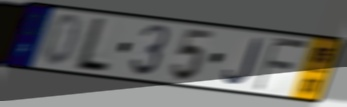0: (42, 13, 85, 68)
3: (128, 23, 170, 78)
5: (171, 26, 218, 83)
F: (251, 35, 311, 94)
J: (223, 37, 264, 87)
L: (70, 16, 113, 75)
